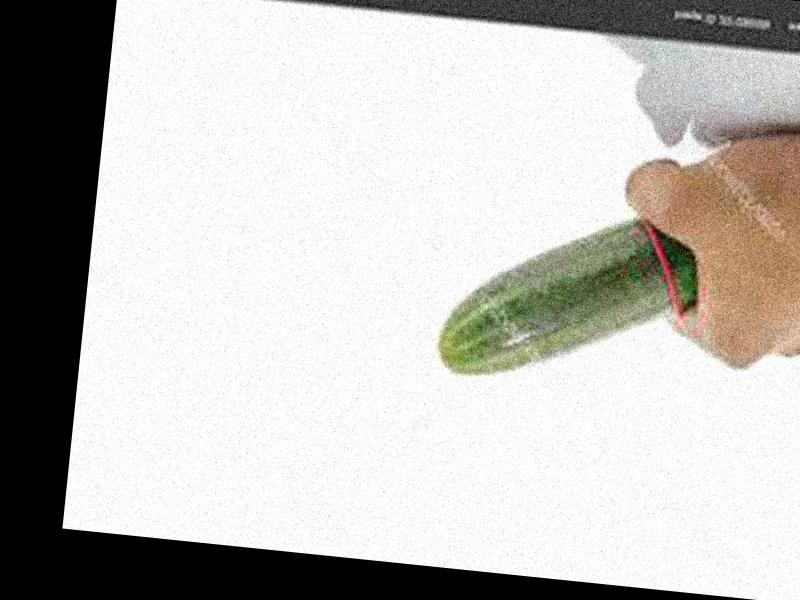Cucumber: (435, 201, 704, 397)
